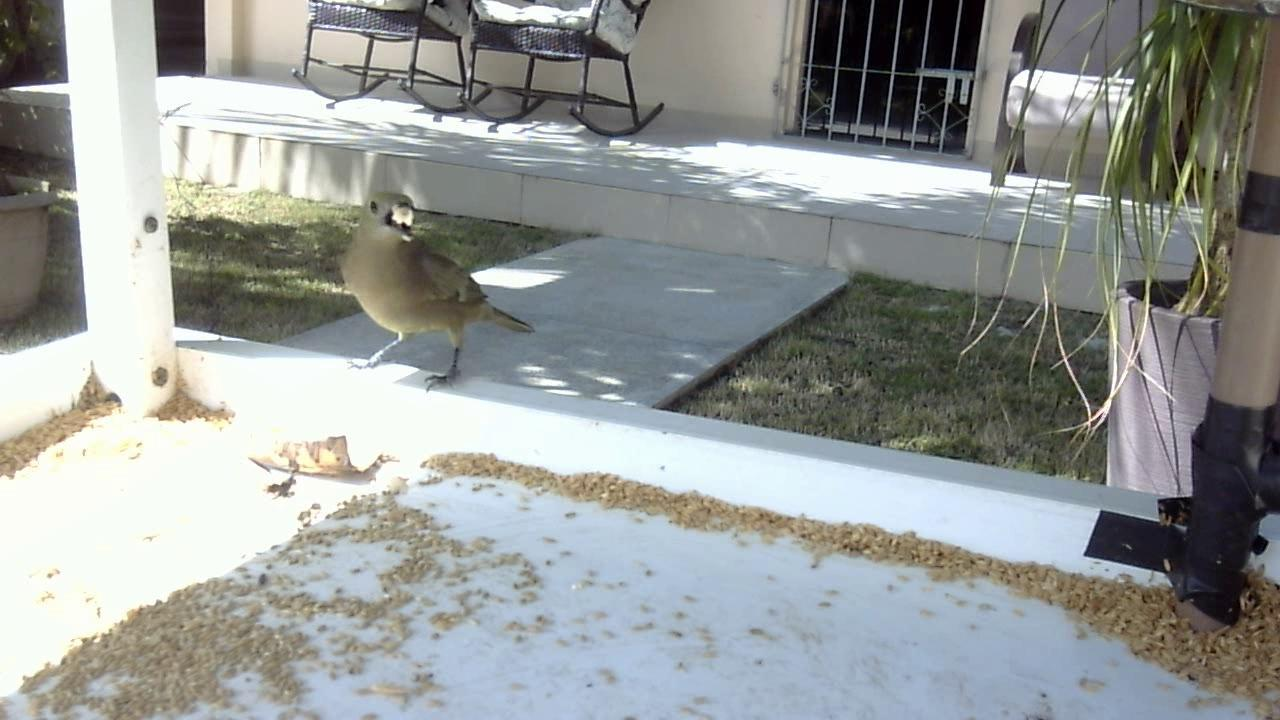sanhaco_do_coqueiro: (335, 190, 550, 393)
